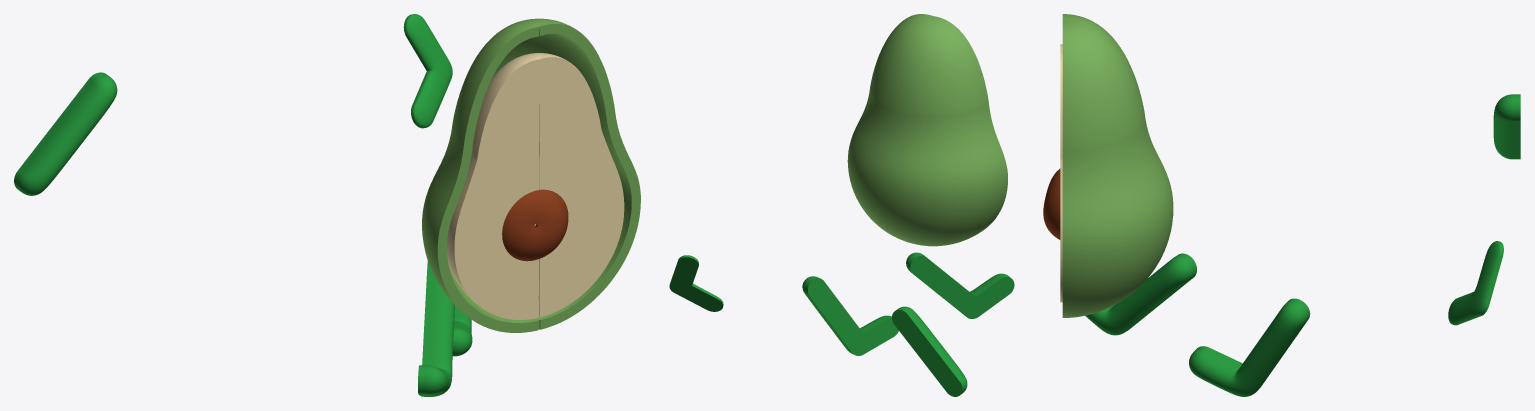
3 views of the same model, side by side, from view 1: azimuth 30°, elevation 25°; view 2: azimuth 150°, elevation 25°; view 3: azimuth 270°, elevation 25° (orthographic). The views are drawn at different scales.
Visible parts, largest first — view 1: groupNumber_0 6, groupNumber_0, groupNumber_0 14, groupNumber_0 2, groupNumber_0 12, groupNumber_0 11, groupNumber_0 13; view 2: groupNumber_0, groupNumber_0 13, groupNumber_0 12, groupNumber_0 14, groupNumber_0 11; view 3: groupNumber_0, groupNumber_0 13, groupNumber_0 12, groupNumber_0 11, groupNumber_0 14, groupNumber_0 2, groupNumber_0 6.
Part boxes in pixels (x1,y1,x2,y2): groupNumber_0 6: (447, 53, 624, 319); groupNumber_0: (422, 18, 640, 332); groupNumber_0 14: (14, 72, 117, 195); groupNumber_0 2: (502, 189, 568, 261); groupNumber_0 12: (418, 261, 454, 396); groupNumber_0 11: (403, 14, 452, 128); groupNumber_0 13: (452, 306, 472, 356); groupNumber_0: (847, 14, 1007, 246); groupNumber_0 13: (802, 276, 898, 355); groupNumber_0 12: (906, 252, 1014, 318); groupNumber_0 14: (892, 306, 967, 396); groupNumber_0 11: (669, 255, 723, 311); groupNumber_0: (1062, 14, 1173, 317); groupNumber_0 13: (1189, 298, 1310, 396); groupNumber_0 12: (1085, 253, 1196, 335); groupNumber_0 11: (1448, 241, 1503, 325); groupNumber_0 14: (1493, 94, 1520, 159); groupNumber_0 2: (1043, 168, 1060, 239); groupNumber_0 6: (1060, 44, 1062, 302).
Size of the model in its own units: 5.94 by 5.32 by 6.22.
